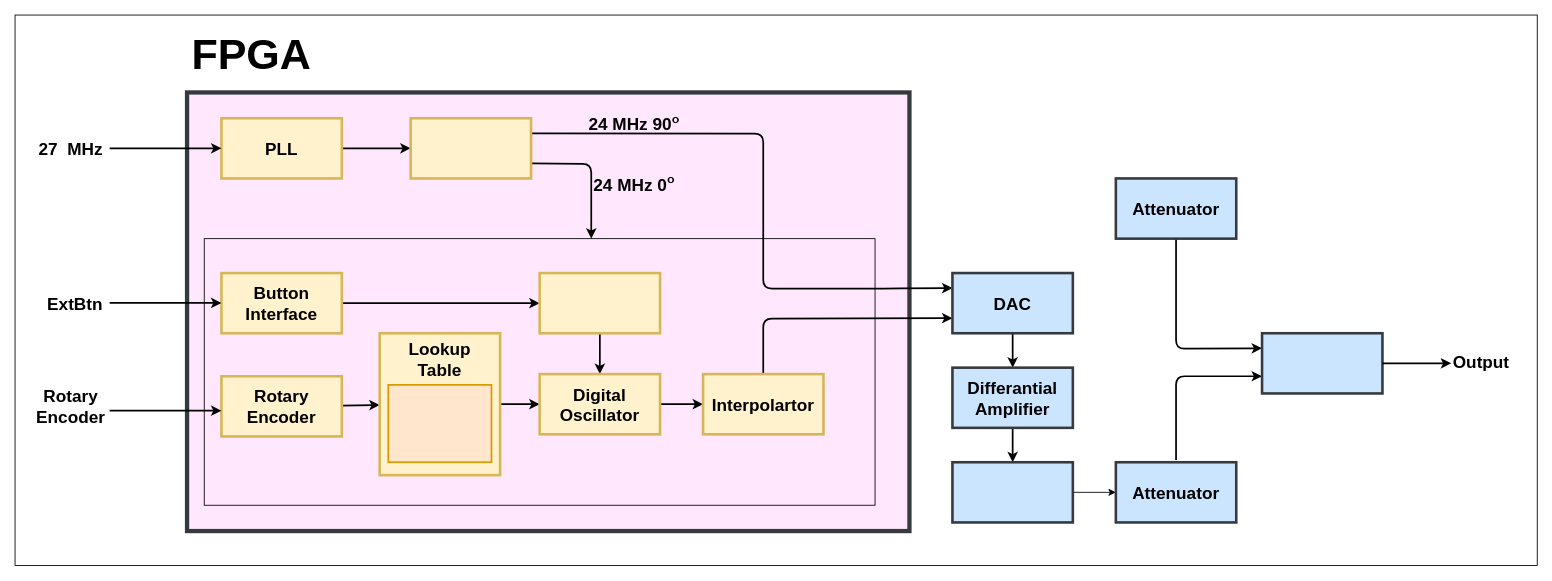
Image size: 1552x581. Some labels were removed from this diagram. Here are the shapes that lost their labels. From the top down, the centre of each, then its label:
At pixel 470 148: "Clock Divider".
At pixel 599 302: "Sampling Control".
At pixel 1321 363: "Summing Amplifier".
At pixel 439 423: "ROM Coefficien t".
At pixel 1012 492: "Lowpass Filter".
